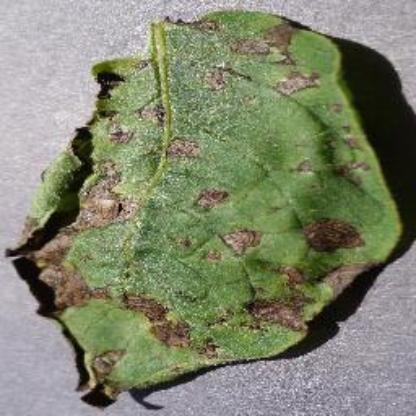Early-Blight: (13, 10, 405, 404)
